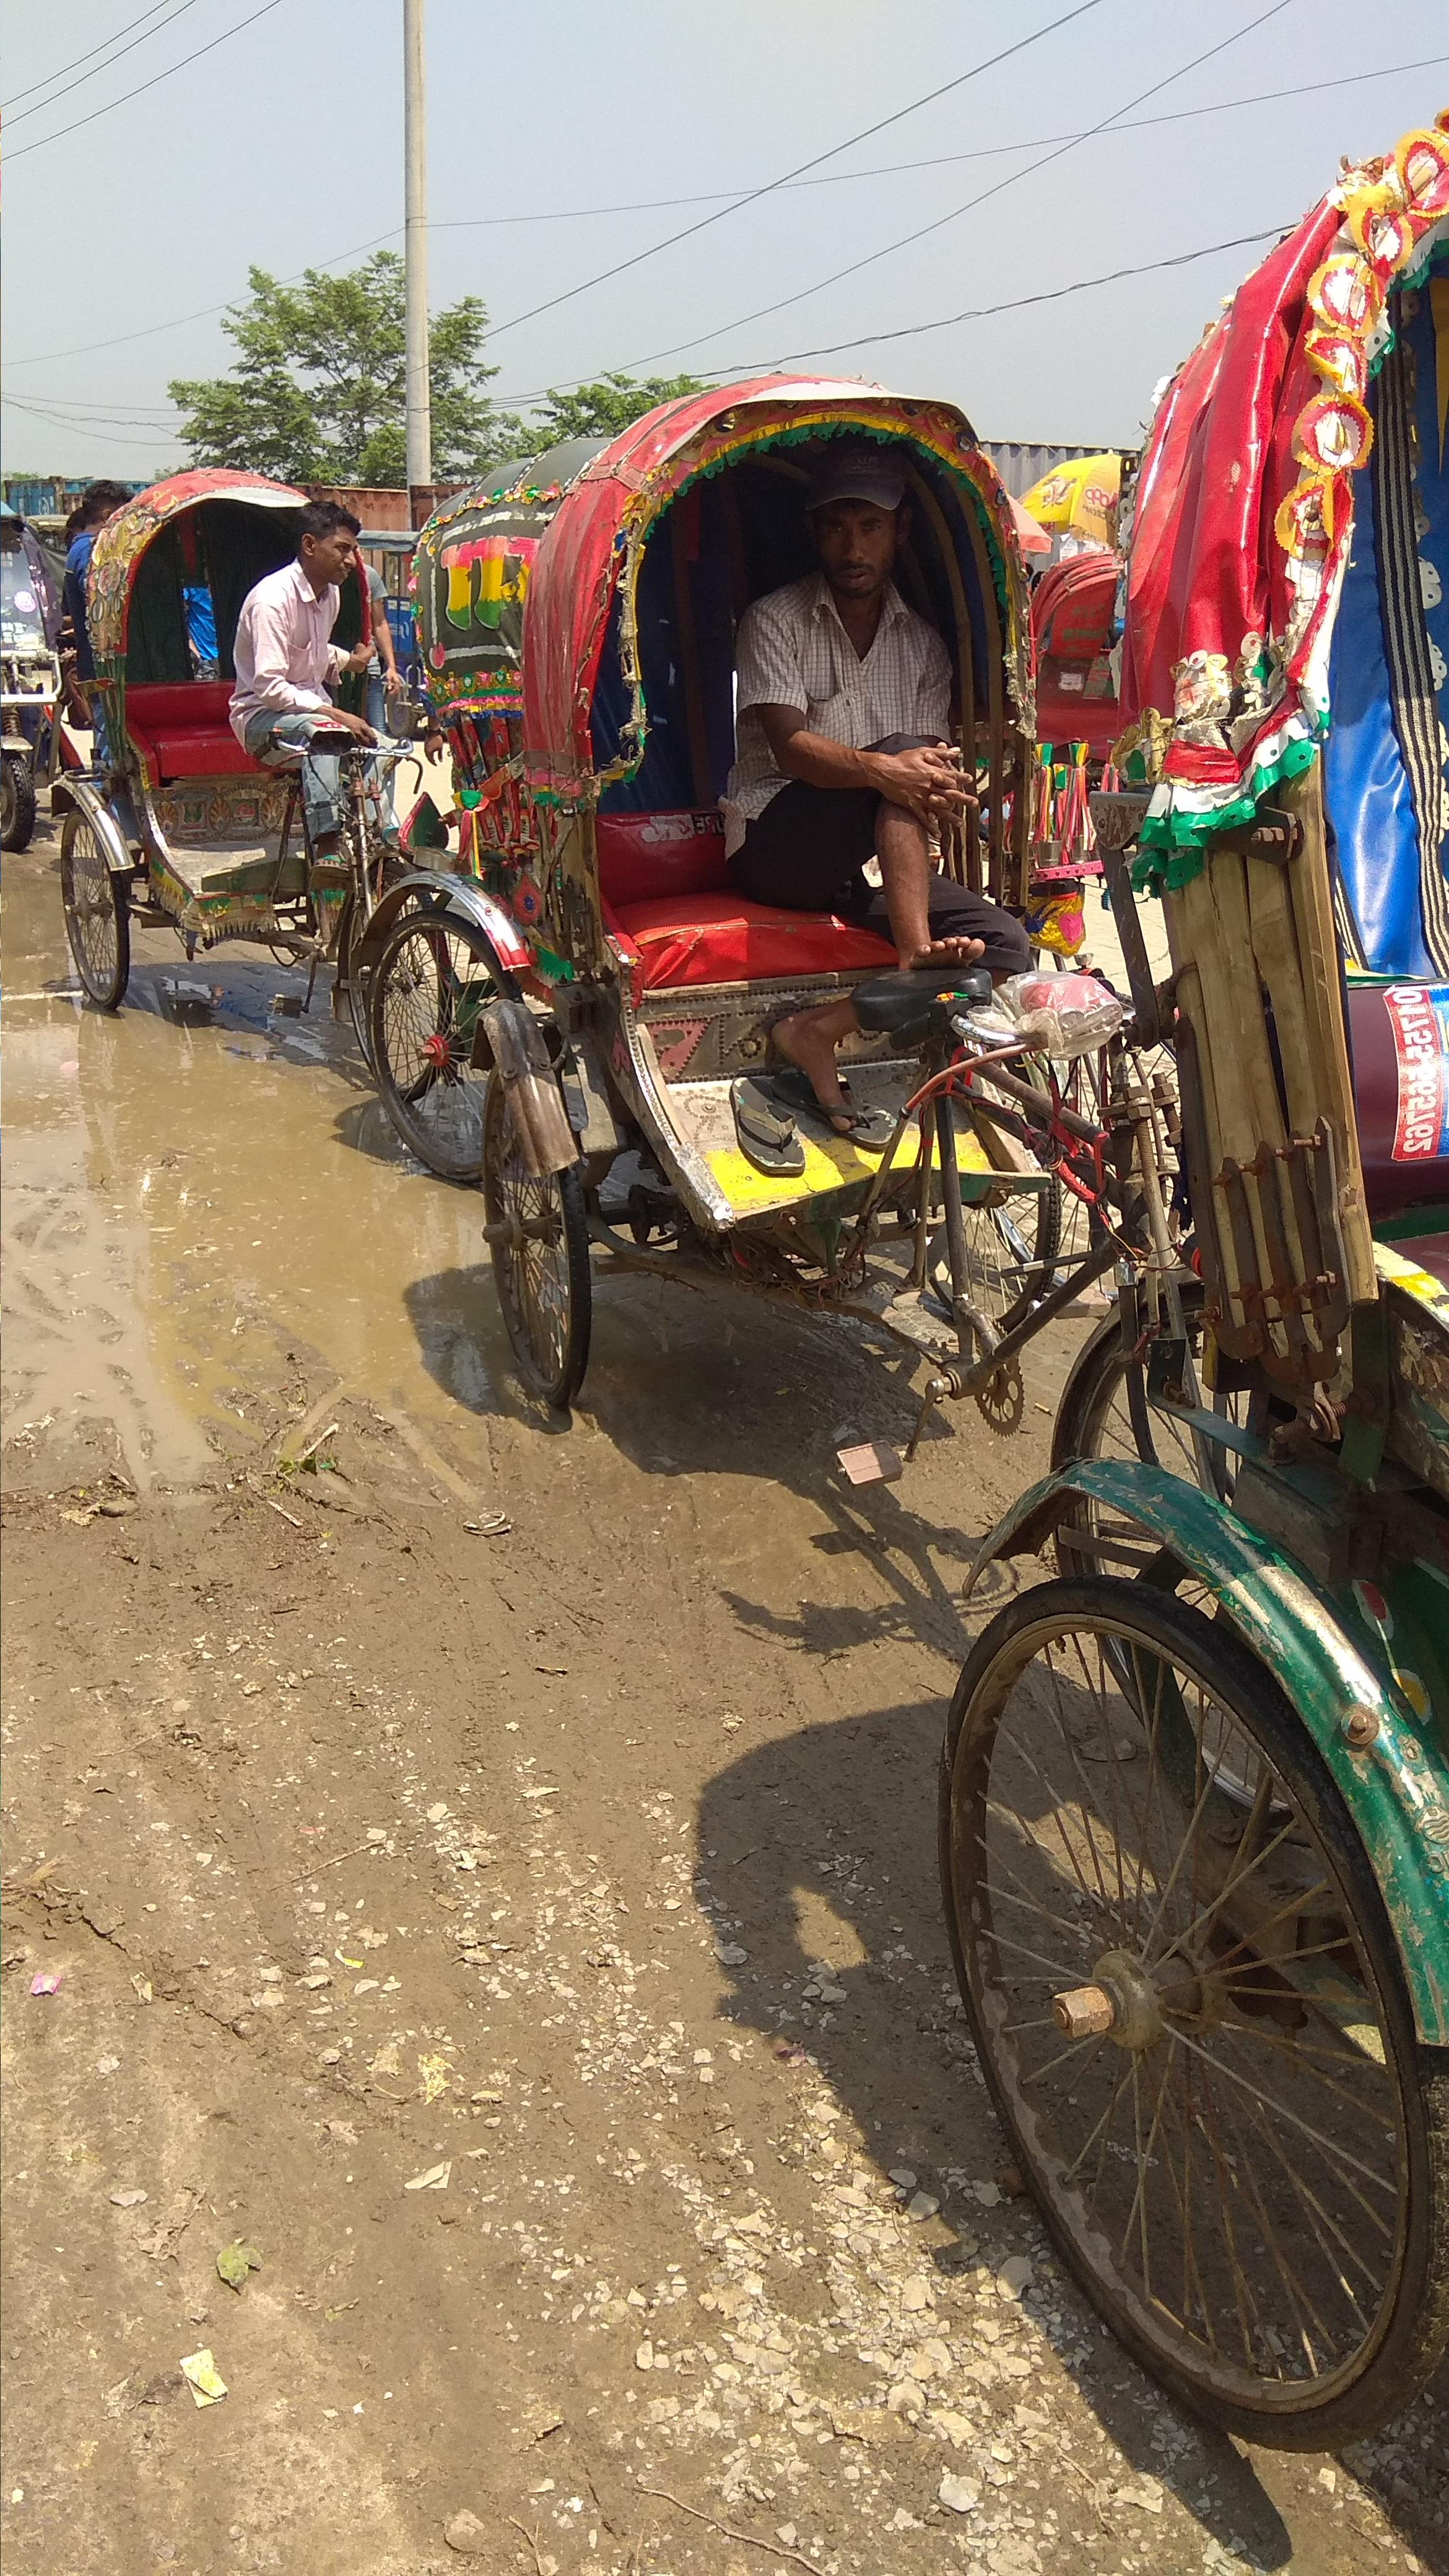Rickshaw: (1106, 85, 1437, 2189), (494, 318, 1100, 1430), (39, 410, 451, 1037), (334, 410, 630, 1044), (1008, 497, 1148, 929)
